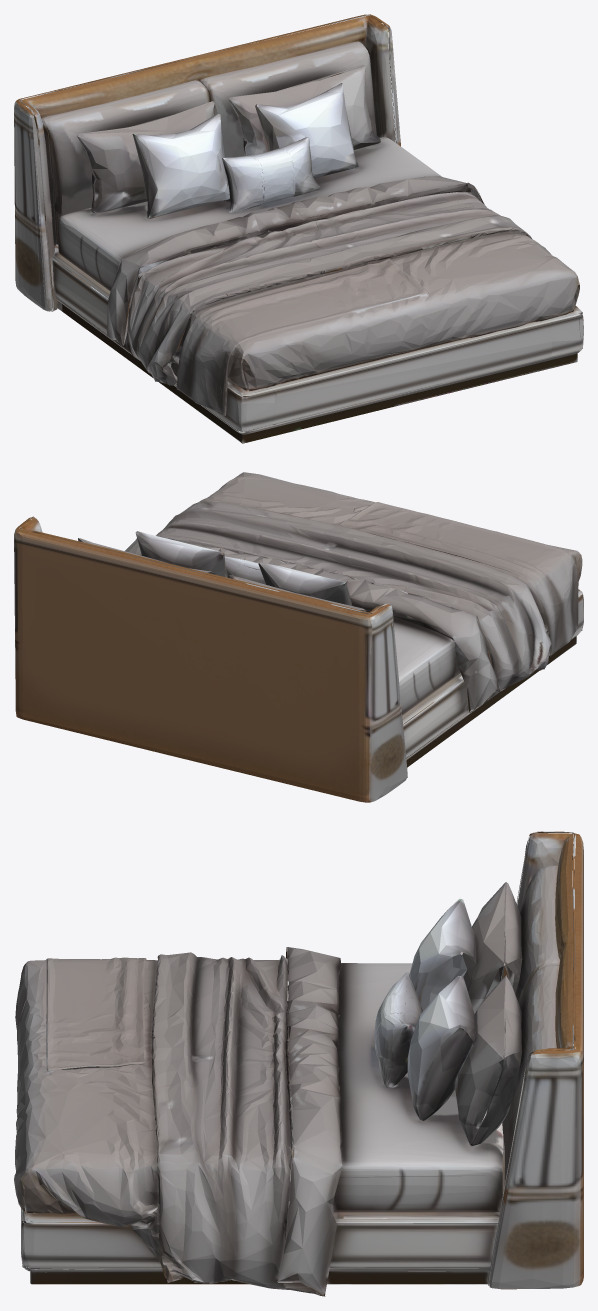
File: edited_mesh.glb
The picture shows the model from 3 angles, top to bottom: view 1: azimuth 30°, elevation 25°; view 2: azimuth 150°, elevation 25°; view 3: azimuth 270°, elevation 25°; orthographic projection. The views are drawn at different scales.
Parts seen in each view (by area): view 1: solid_001_wire; view 2: solid_001_wire; view 3: solid_001_wire.
Boxes of the visible parts, x1=… form: solid_001_wire: x1=14, y1=14, x2=583, y2=443; solid_001_wire: x1=14, y1=472, x2=583, y2=802; solid_001_wire: x1=14, y1=831, x2=583, y2=1296.
Bounding box in the file's own units: 2 × 0.9449 × 1.97.
1 material, 1 textured.
